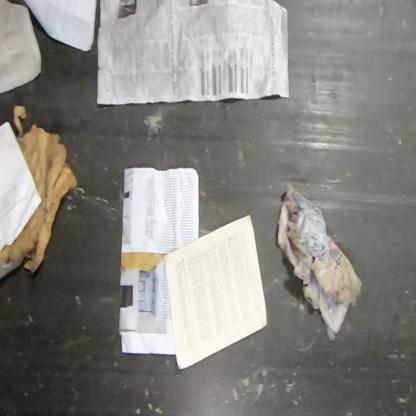cardboard: (0, 107, 78, 274)
